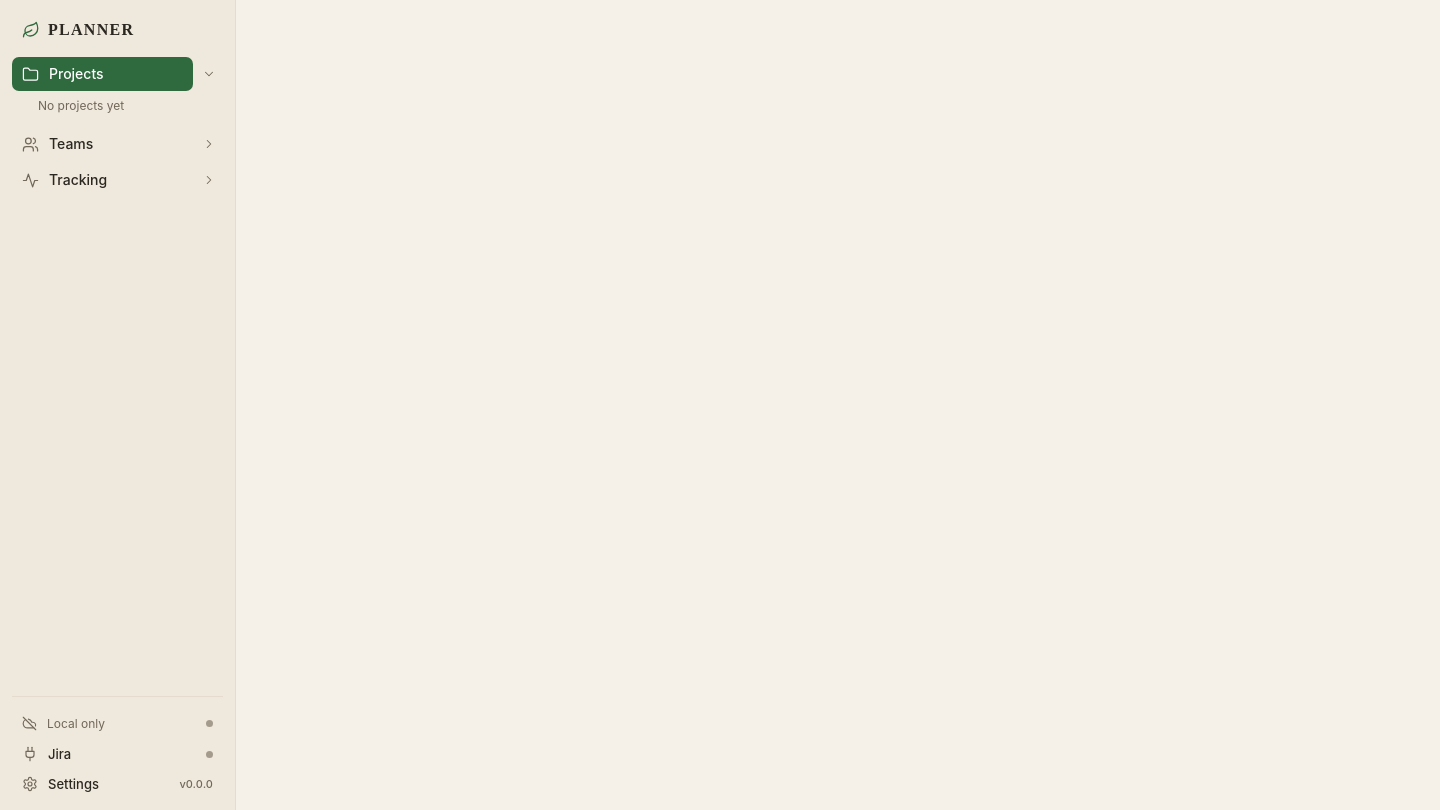
it: version and updates in the sidebar › shows the build's version and opens the About panel
This screenshot has width=1440, height=810.
Click the button "Settings v0.0.0" at (118, 784), box [12, 770, 223, 798]
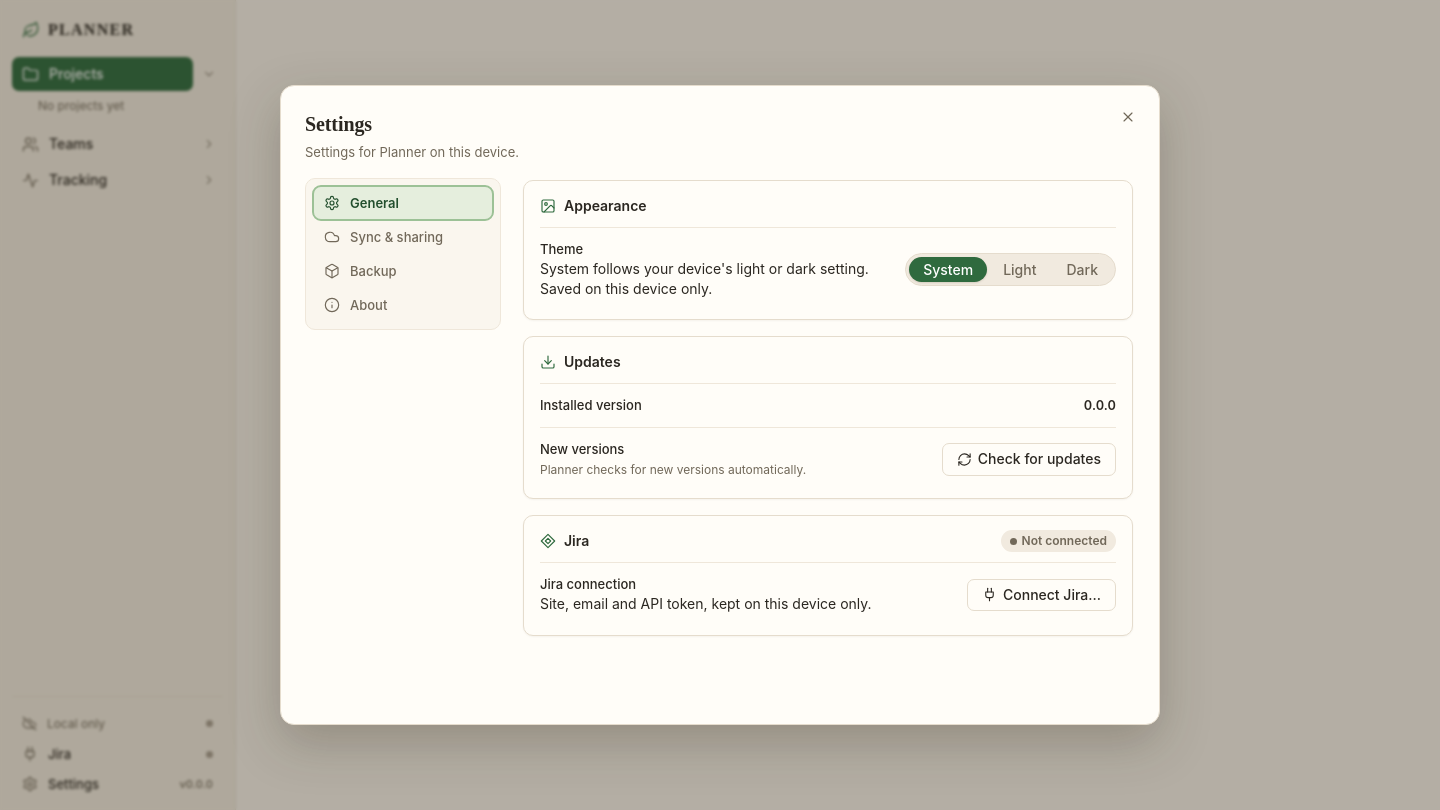
Expected: the dialog named "About Planner" is shown, [280, 85, 1160, 725]
Expected: the text "0.0.0" is shown, [1084, 396, 1116, 415]
